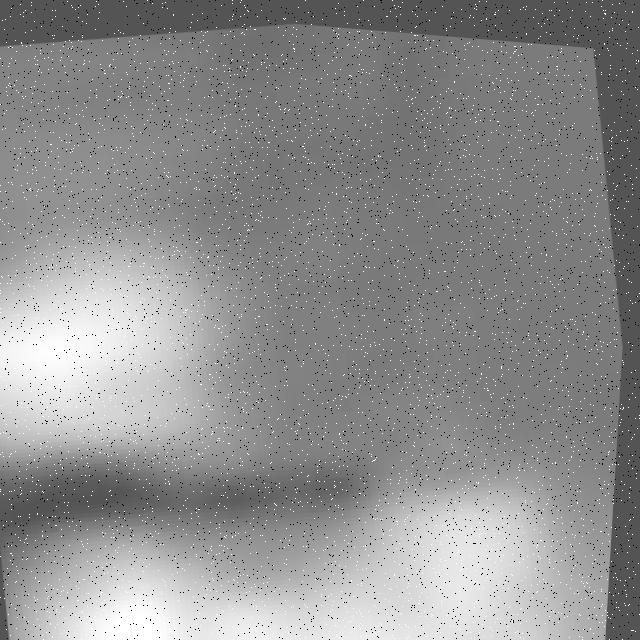person: (1, 412, 622, 640), (1, 200, 257, 484)
